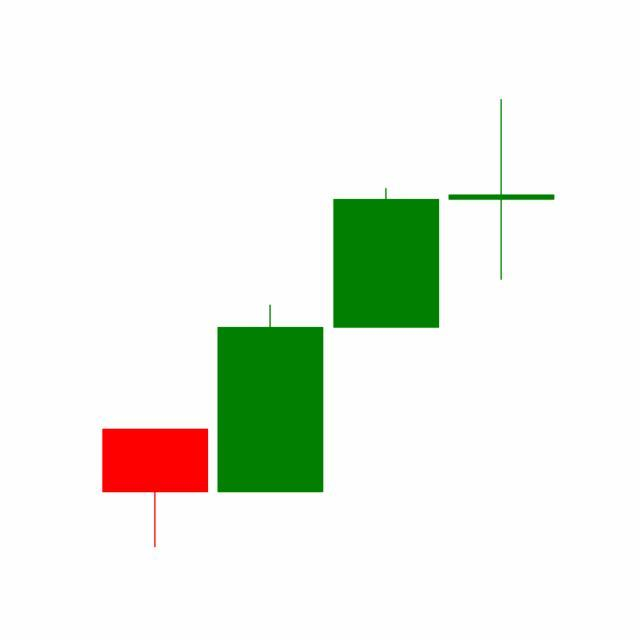Marubozu: (329, 187, 445, 331)
